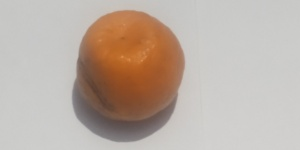BAD: (74, 10, 187, 125)
